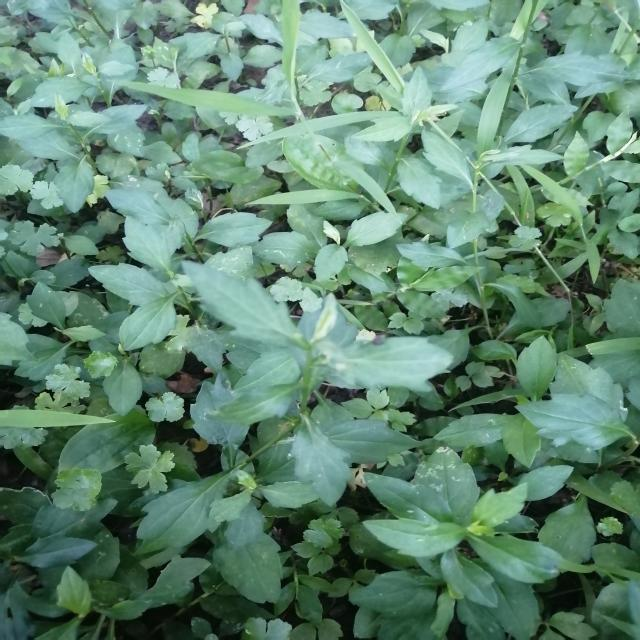Indian aster: (158, 257, 462, 478), (332, 454, 570, 625)
